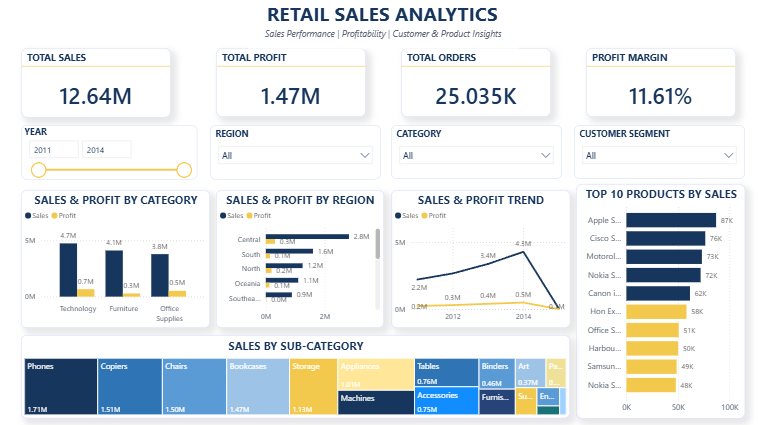

Layout of this report page (visuals, bound fields, positions):
{"tool":"powerbi","page":{"name":"Page 1","canvas":[1280,720],"ordinal":0},"visuals":[{"type":"cardVisual","title":"TOTAL SALES","fields":{"Data":["Sum(retail_sales_analytics superstore.sales)"]},"box":[36.6,90.7,250.2,115.6],"z":0},{"type":"cardVisual","title":"TOTAL PROFIT","fields":{"Data":["Sum(retail_sales_analytics superstore.profit)"]},"box":[361.5,90.7,250,115],"z":1000},{"type":"cardVisual","title":"TOTAL ORDERS","fields":{"Data":["Count(retail_sales_analytics superstore.order_id)"]},"box":[670.2,90.7,250.2,115],"z":2000},{"type":"cardVisual","title":"PROFIT MARGIN","fields":{"Data":["retail_sales_analytics superstore.Profit Margin"]},"box":[977.6,90.7,250,115],"z":3000},{"type":"clusteredColumnChart","title":"SALES & PROFIT BY CATEGORY","fields":{"Category":["retail_sales_analytics superstore.category"],"Y":["Sum(retail_sales_analytics superstore.sales)","Sum(retail_sales_analytics superstore.profit)"]},"box":[36.6,326.3,314.6,229.8],"z":4000},{"type":"lineChart","title":"SALES & PROFIT TREND","fields":{"Category":["retail_sales_analytics superstore.ship_date.Variation.Date Hierarchy.Year"],"Y":["Sum(retail_sales_analytics superstore.sales)","Sum(retail_sales_analytics superstore.profit)"]},"box":[652.7,326.3,298.5,229.8],"z":5000},{"type":"clusteredBarChart","title":"SALES & PROFIT BY REGION","fields":{"Category":["retail_sales_analytics superstore.region"],"Y":["Sum(retail_sales_analytics superstore.sales)","Sum(retail_sales_analytics superstore.profit)"]},"box":[361.5,326.3,279.5,229.8],"z":6000},{"type":"clusteredBarChart","title":"TOP 10 PRODUCTS BY SALES","fields":{"Category":["retail_sales_analytics superstore.product_name"],"Y":["Sum(retail_sales_analytics superstore.sales)"]},"box":[961.5,316.1,282.4,390.7],"z":7000},{"type":"treemap","title":"SALES BY SUB-CATEGORY","fields":{"Group":["retail_sales_analytics superstore.sub_category"],"Values":["Sum(retail_sales_analytics superstore.sales)"]},"box":[36.6,567.8,914.6,139],"z":8000},{"type":"slicer","title":"YEAR","fields":{"Values":["retail_sales_analytics superstore.year"]},"box":[36.6,218,294.1,90.7],"z":9000},{"type":"slicer","title":"REGION","fields":{"Values":["retail_sales_analytics superstore.region"]},"box":[351.2,218,285.4,90.7],"z":10000},{"type":"slicer","title":"CUSTOMER SEGMENT","fields":{"Values":["retail_sales_analytics superstore.segment"]},"box":[958.5,218,285,90],"z":11000},{"type":"slicer","title":"CATEGORY","fields":{"Values":["retail_sales_analytics superstore.category"]},"box":[652.7,218,285,90],"z":12000},{"type":"textbox","box":[403.9,4.4,471.2,54.1],"z":13000},{"type":"textbox","box":[415.6,49.8,450.7,41],"z":14000}]}

Visuals, with their boxes in screenshot pixels (x1, y1, x2, y2), scaled from the page's 1280x720 canvas onto the 758x425 screenshot:
"TOTAL SALES" cardVisual: (22,54,170,122)
"TOTAL PROFIT" cardVisual: (214,54,362,121)
"TOTAL ORDERS" cardVisual: (397,54,545,121)
"PROFIT MARGIN" cardVisual: (579,54,727,121)
"SALES & PROFIT BY CATEGORY" clusteredColumnChart: (22,193,208,328)
"SALES & PROFIT TREND" lineChart: (387,193,563,328)
"SALES & PROFIT BY REGION" clusteredBarChart: (214,193,380,328)
"TOP 10 PRODUCTS BY SALES" clusteredBarChart: (569,187,737,417)
"SALES BY SUB-CATEGORY" treemap: (22,335,563,417)
"YEAR" slicer: (22,129,196,182)
"REGION" slicer: (208,129,377,182)
"CUSTOMER SEGMENT" slicer: (568,129,736,182)
"CATEGORY" slicer: (387,129,555,182)
textbox: (239,3,518,35)
textbox: (246,29,513,54)
